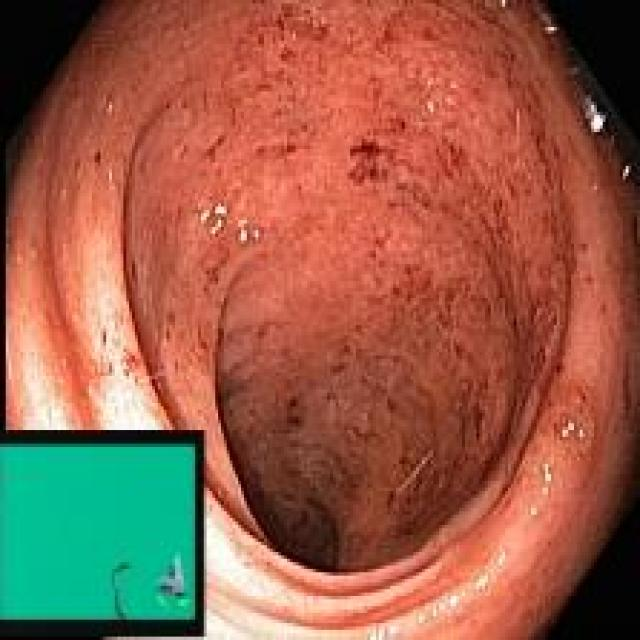ulcerative-colitis-grade-1: (14, 3, 640, 571)
